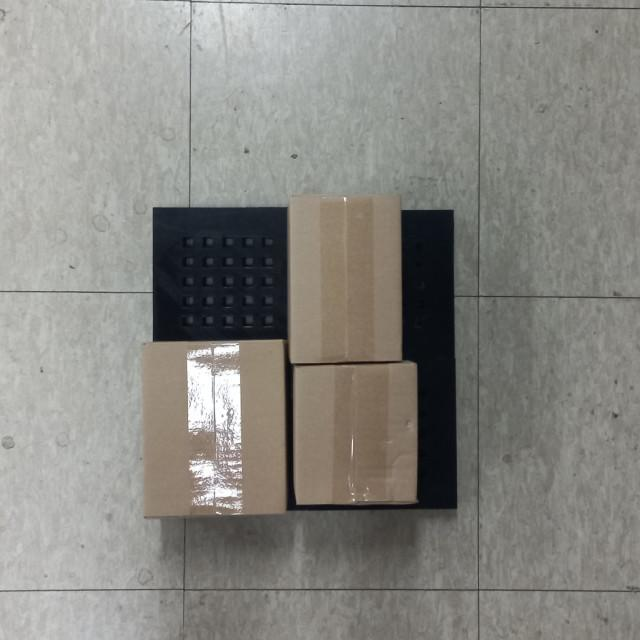box: (138, 338, 288, 522), (284, 193, 406, 365), (289, 359, 424, 510)
